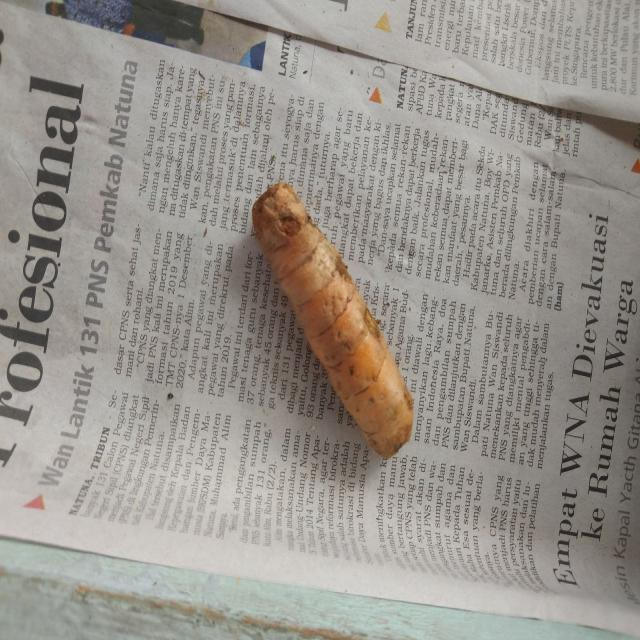ginger: (248, 173, 403, 470)
